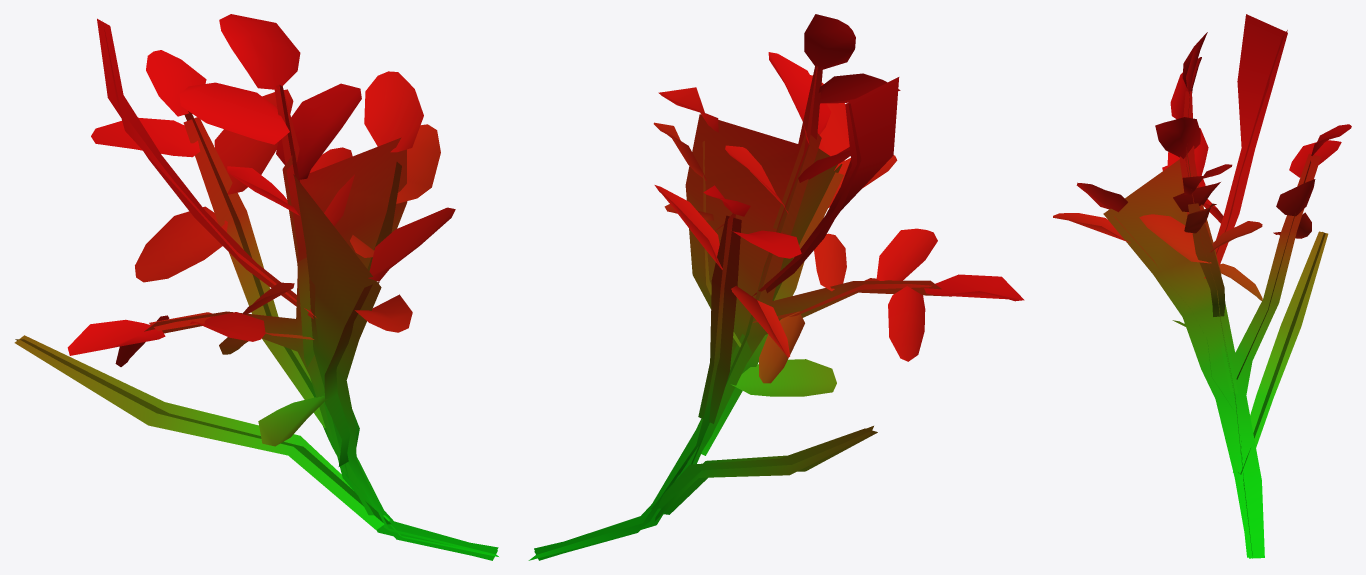
The model's file is Bilberry_LOD0_Var9_vldufeiha.fbx.
3 views of the same model, side by side, from view 1: azimuth 30°, elevation 25°; view 2: azimuth 150°, elevation 25°; view 3: azimuth 270°, elevation 25° (orthographic). The views are drawn at different scales.
Visible parts, largest first — view 1: _4zyq_Var9_LOD0; view 2: _4zyq_Var9_LOD0; view 3: _4zyq_Var9_LOD0.
Boxes of the visible parts, <box> form: _4zyq_Var9_LOD0: <box>14,14,498,560</box>; _4zyq_Var9_LOD0: <box>528,14,1024,560</box>; _4zyq_Var9_LOD0: <box>1053,14,1351,558</box>.
Bounding box in the file's own units: 6.91 × 8.76 × 5.51.
